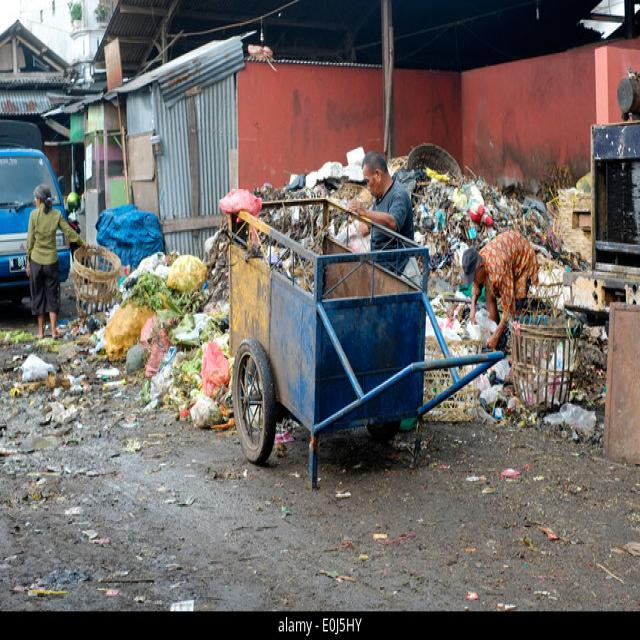metal: (238, 259, 465, 484)
trash: (69, 215, 232, 435), (324, 178, 538, 262), (458, 288, 590, 394), (224, 181, 288, 249)
